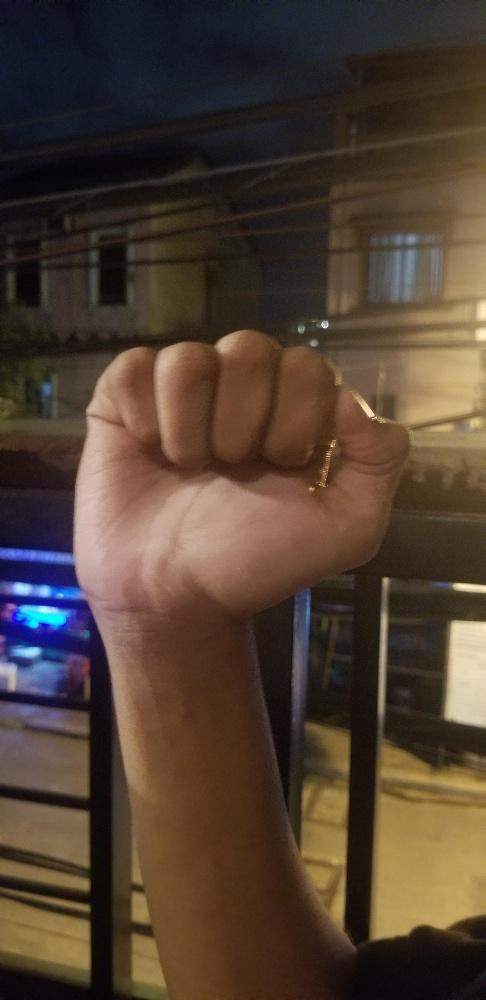a: (65, 329, 409, 604)
